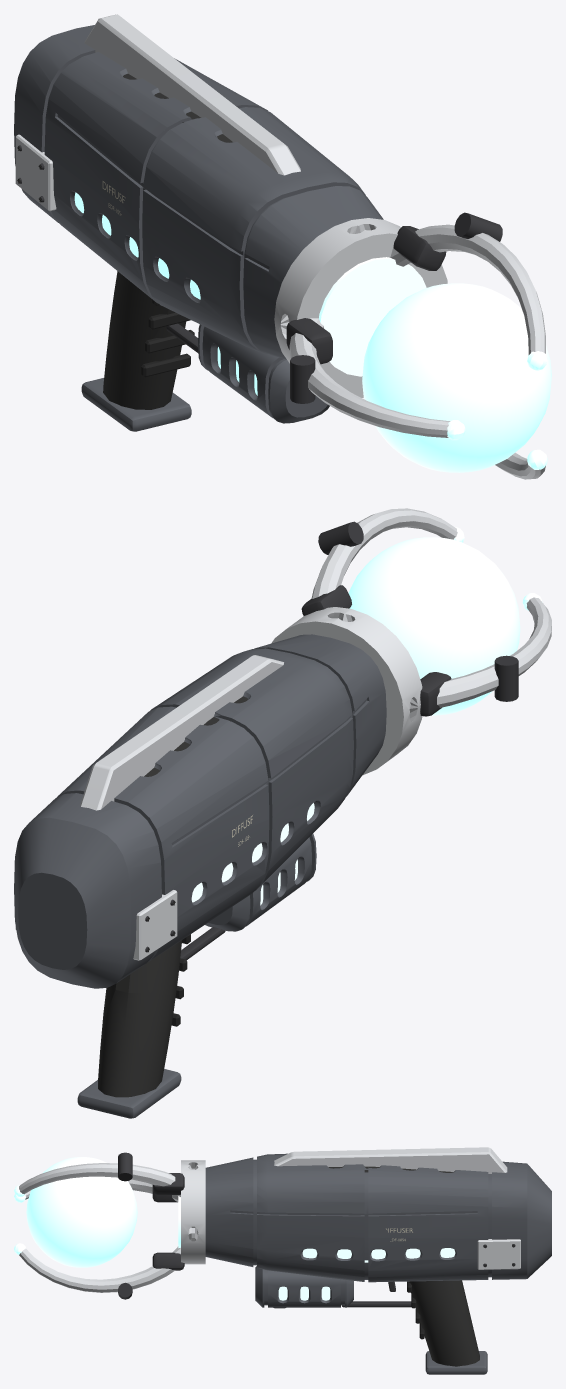
The model's file is diffuser.glb.
3 renders of one model, top to bottom at view 1: azimuth 30°, elevation 25°; view 2: azimuth 150°, elevation 25°; view 3: azimuth 270°, elevation 25°, orthographic. The views are drawn at different scales.
Visible parts, largest first — view 1: Body; view 2: Body; view 3: Body.
Boxes of the visible parts, box(x1,y1,x2,y2) form: Body: box(14, 14, 551, 479); Body: box(14, 508, 551, 1118); Body: box(14, 1147, 551, 1374).
Size of the model in its own units: 0.115 by 0.2038 by 0.435.
